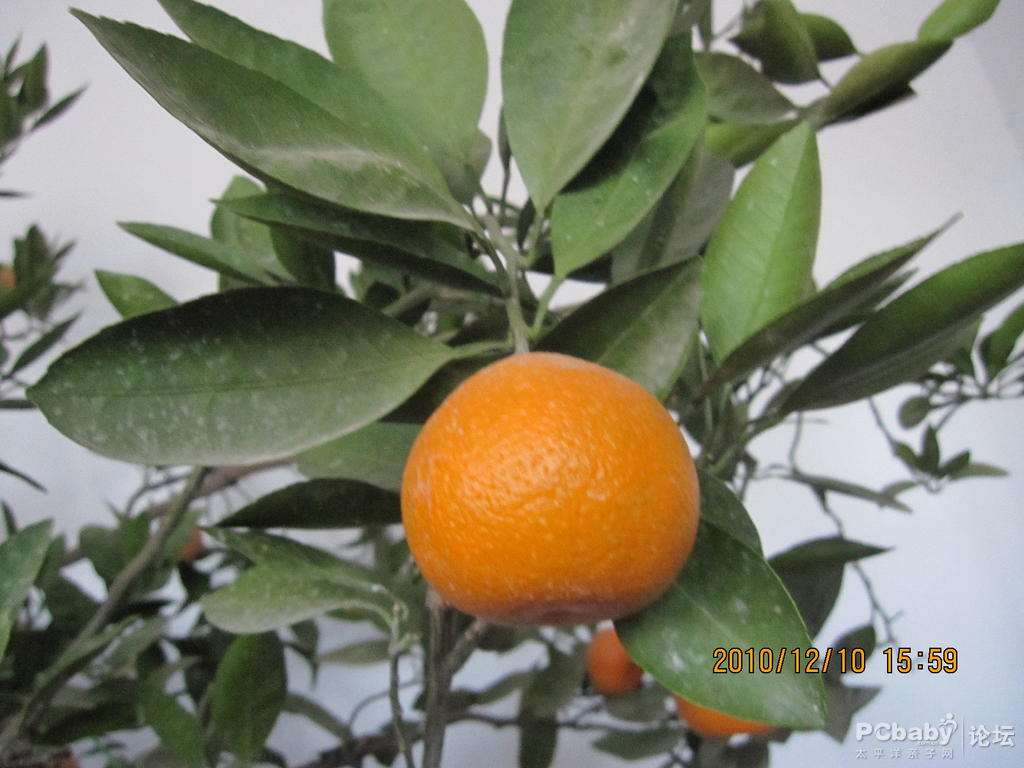orange: (402, 350, 699, 632)
